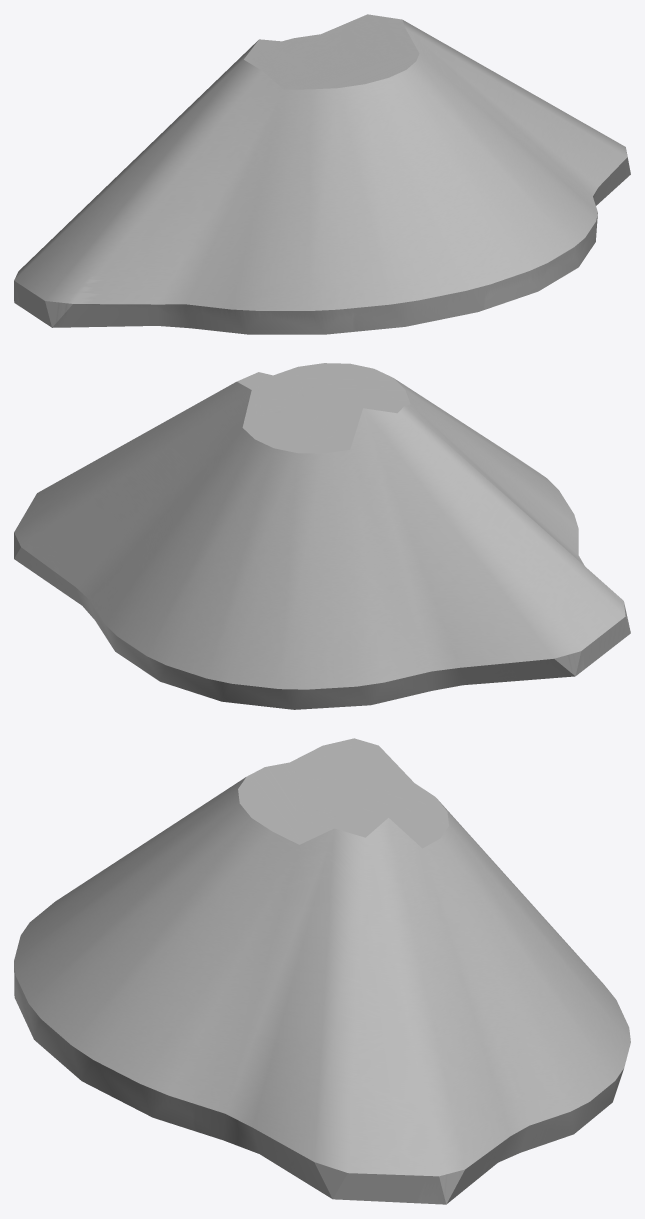
File: roof4.fbx
3 views of the same model, one above another, from view 1: azimuth 30°, elevation 25°; view 2: azimuth 150°, elevation 25°; view 3: azimuth 270°, elevation 25° (orthographic). The views are drawn at different scales.
Parts seen in each view (by area): view 1: pCone3; view 2: pCone3; view 3: pCone3.
Boxes of the visible parts, box(x1,y1,x2,y2) form: pCone3: box(14, 14, 630, 334); pCone3: box(14, 363, 630, 709); pCone3: box(14, 738, 630, 1204).
Bounding box in the file's own units: 9041 × 3515 × 6749.
Materials: 1 (1 with a texture image).
